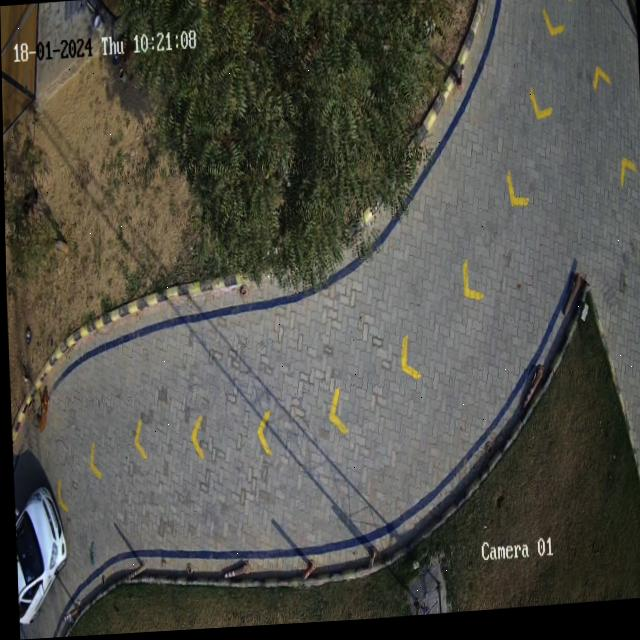car: (12, 486, 64, 625)
